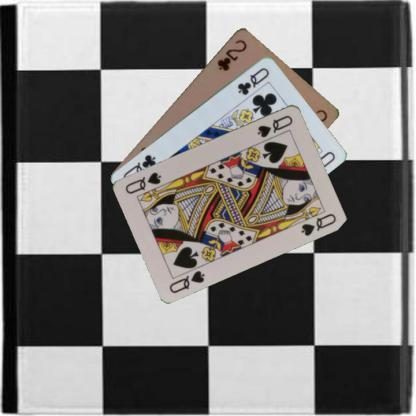2c: (214, 36, 248, 72)
Qc: (235, 64, 270, 96)
Qs: (254, 112, 295, 139), (166, 267, 206, 294)
